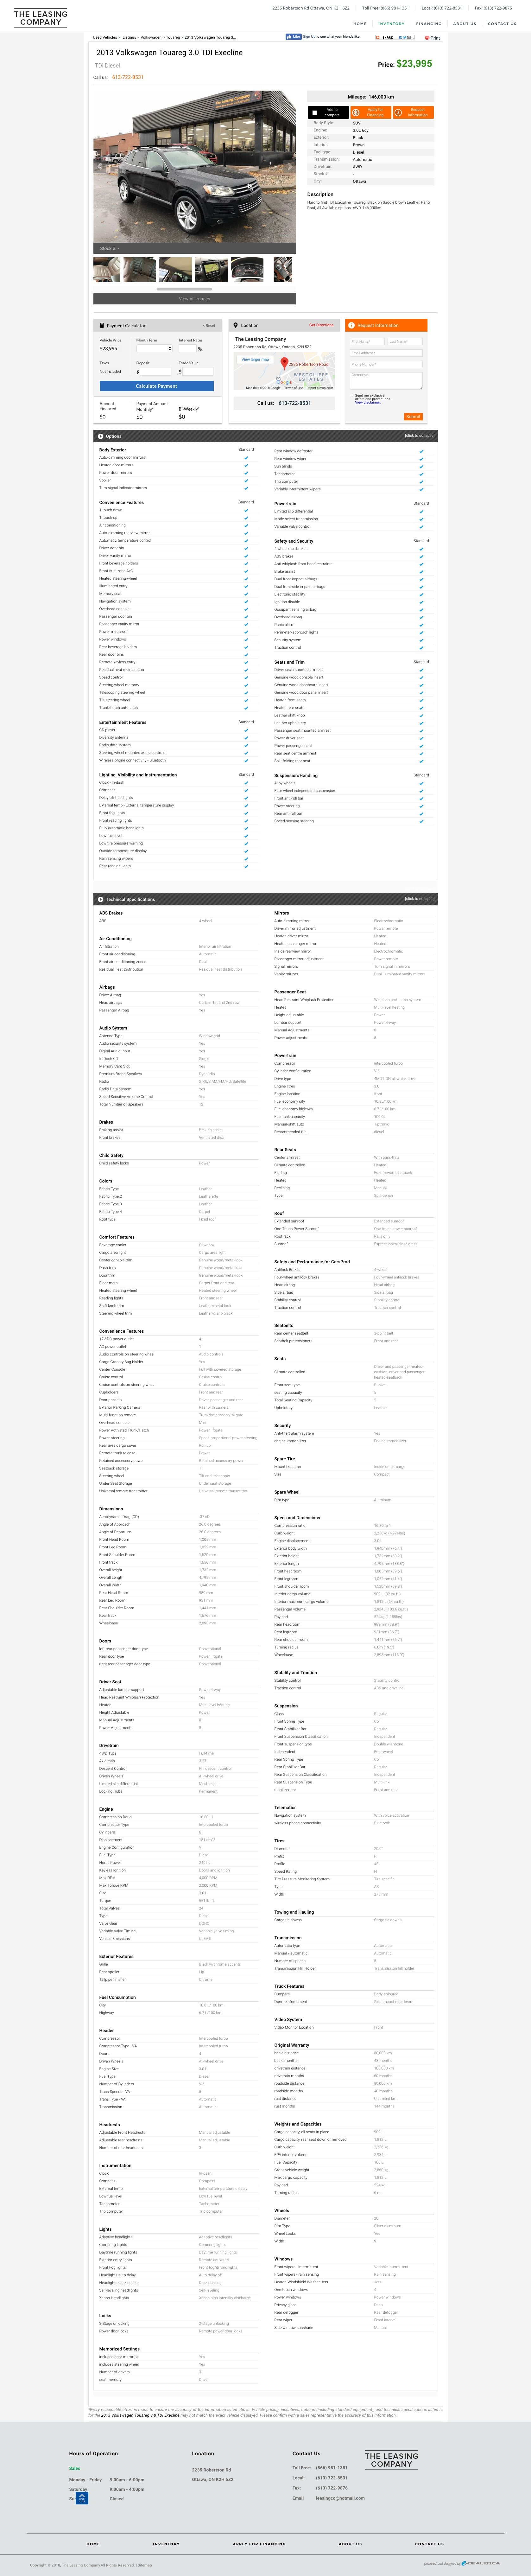car: (288, 163, 293, 171)
